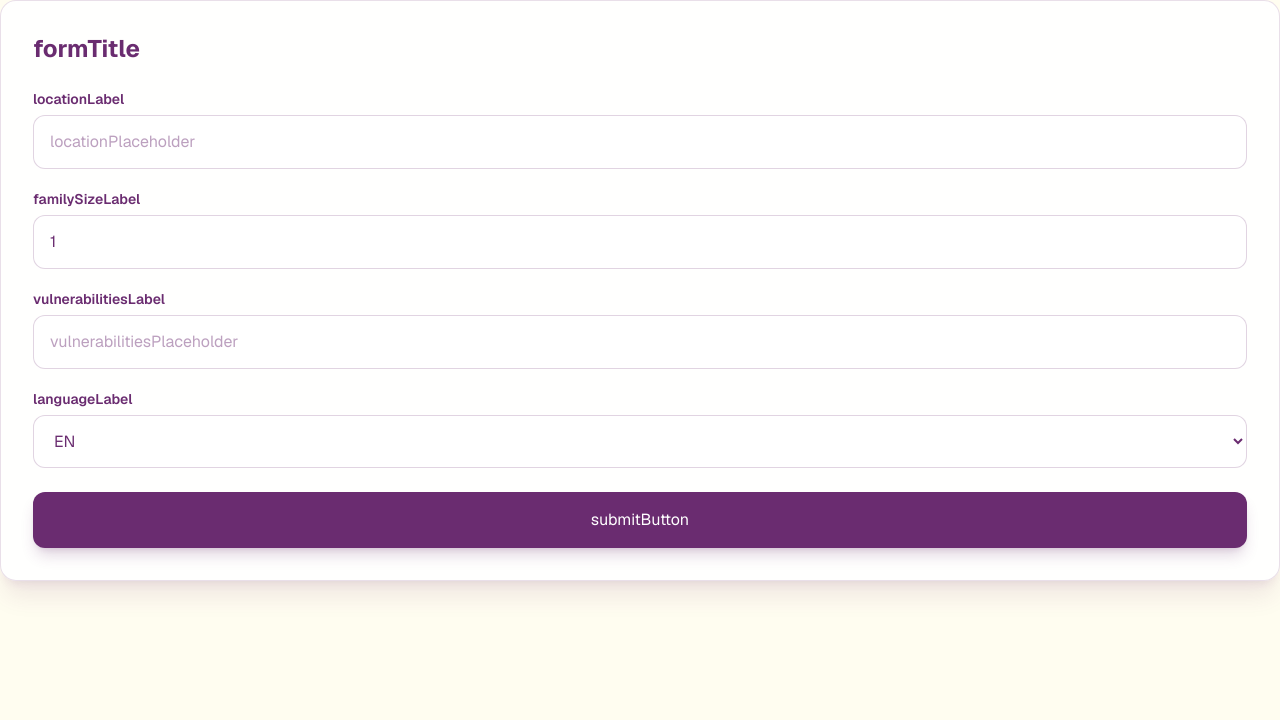
Test: PersonalizedPlanForm › shows a local error message when API returns non-ok response
This screenshot has width=1280, height=720.
Type "Kolkata" into the field labelled "locationLabel" at [640, 142], box x1=33 y1=115 x2=1247 y2=169
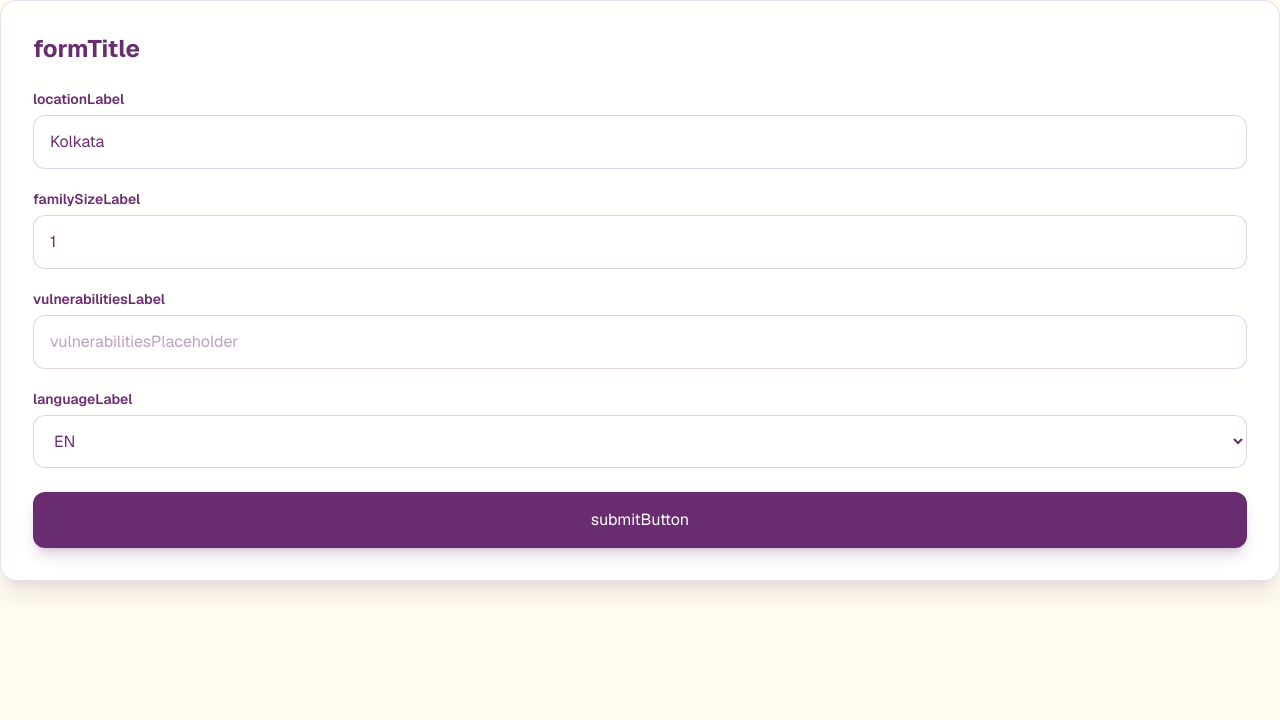
Click the button "submitButton" at [640, 520], box x1=33 y1=492 x2=1247 y2=548
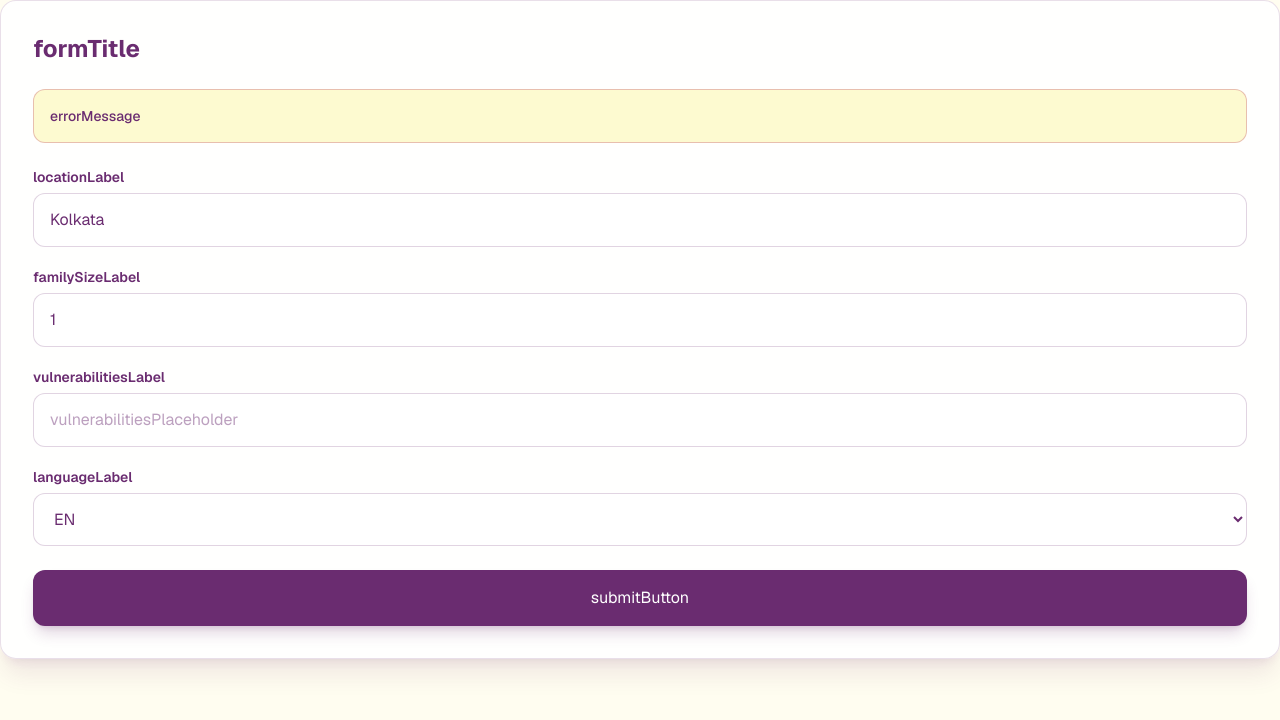
Now the message reads "errorMessage", box x1=50 y1=107 x2=140 y2=125
